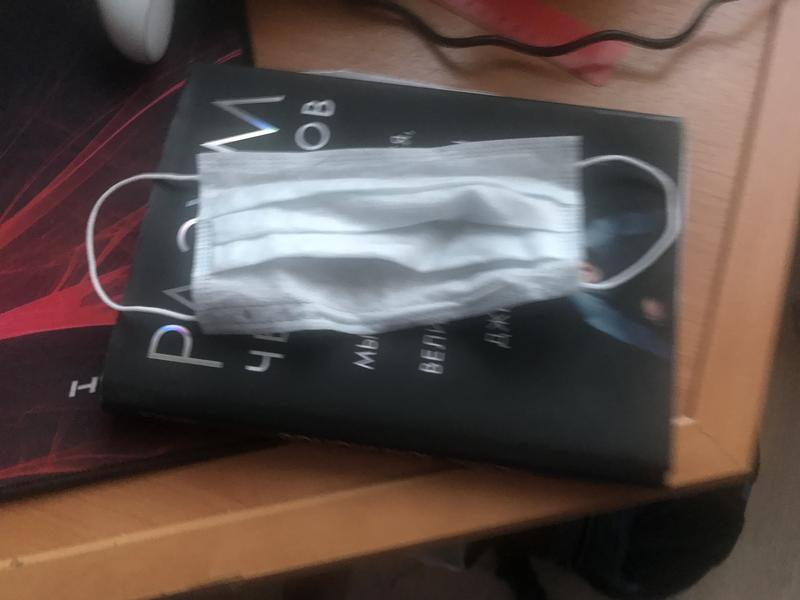medical_mask: (87, 134, 677, 331)
